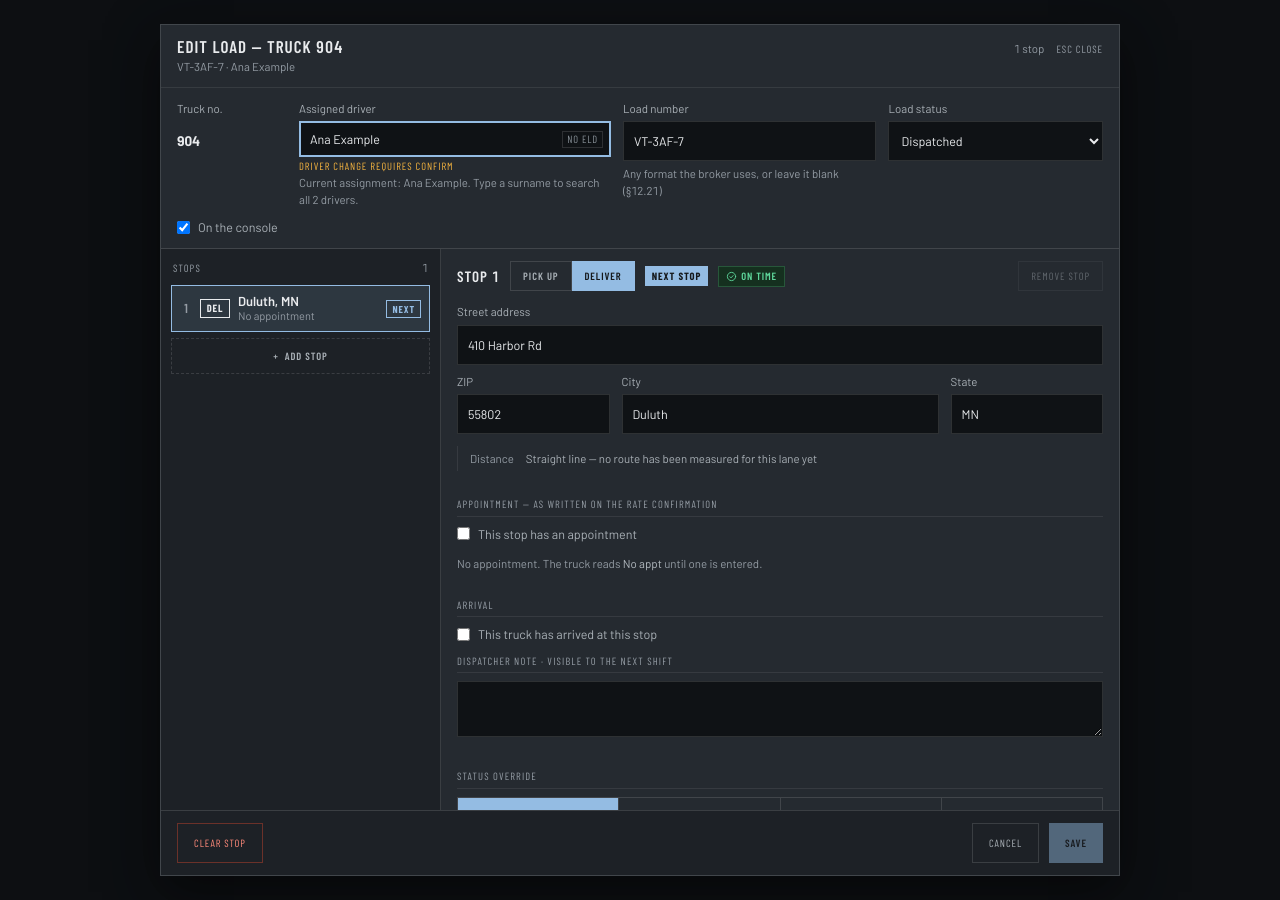
Test: an existing load, saved with a warning (§12.127) › a reassign confirmed and warned: the confirm closes with its save, and nothing is sent again
Replace the text in the dropdown named "Driver for truck 904" with "Bo": (455, 139) [299, 121, 611, 157]
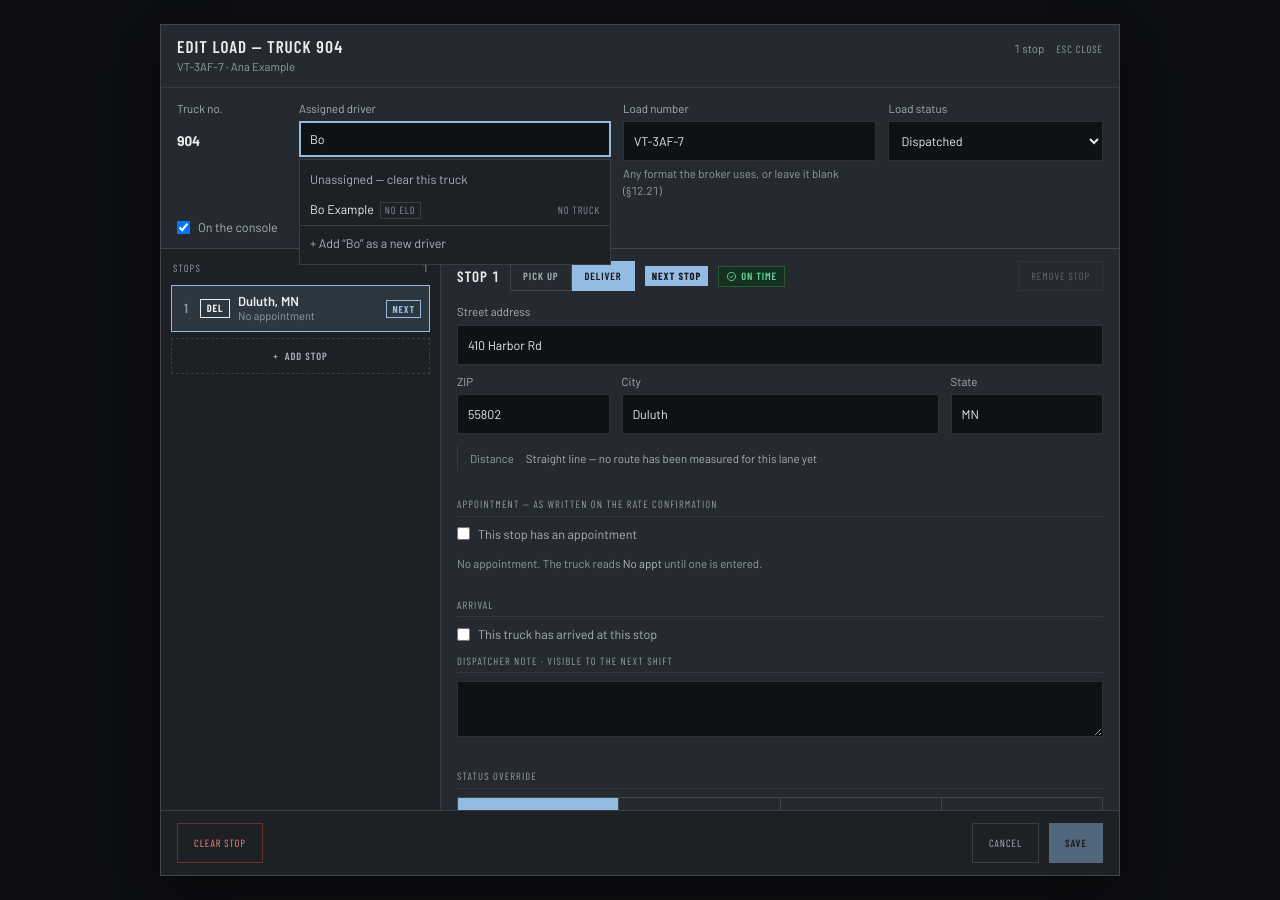
Click the option "Bo Example No ELD no truck": (342, 209) [300, 194, 610, 225]
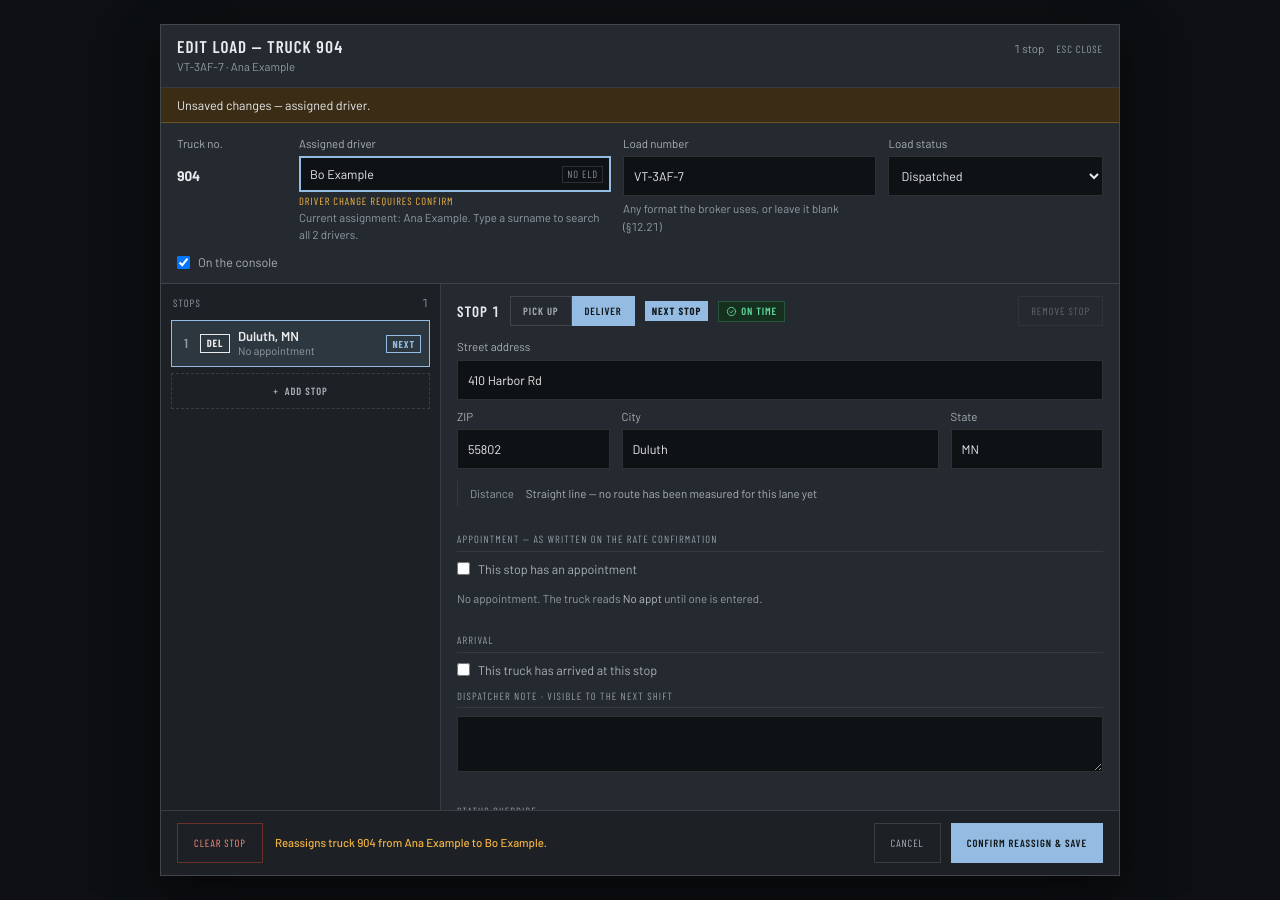
Click the button "Confirm reassign & save": (1027, 843) [951, 823, 1103, 863]
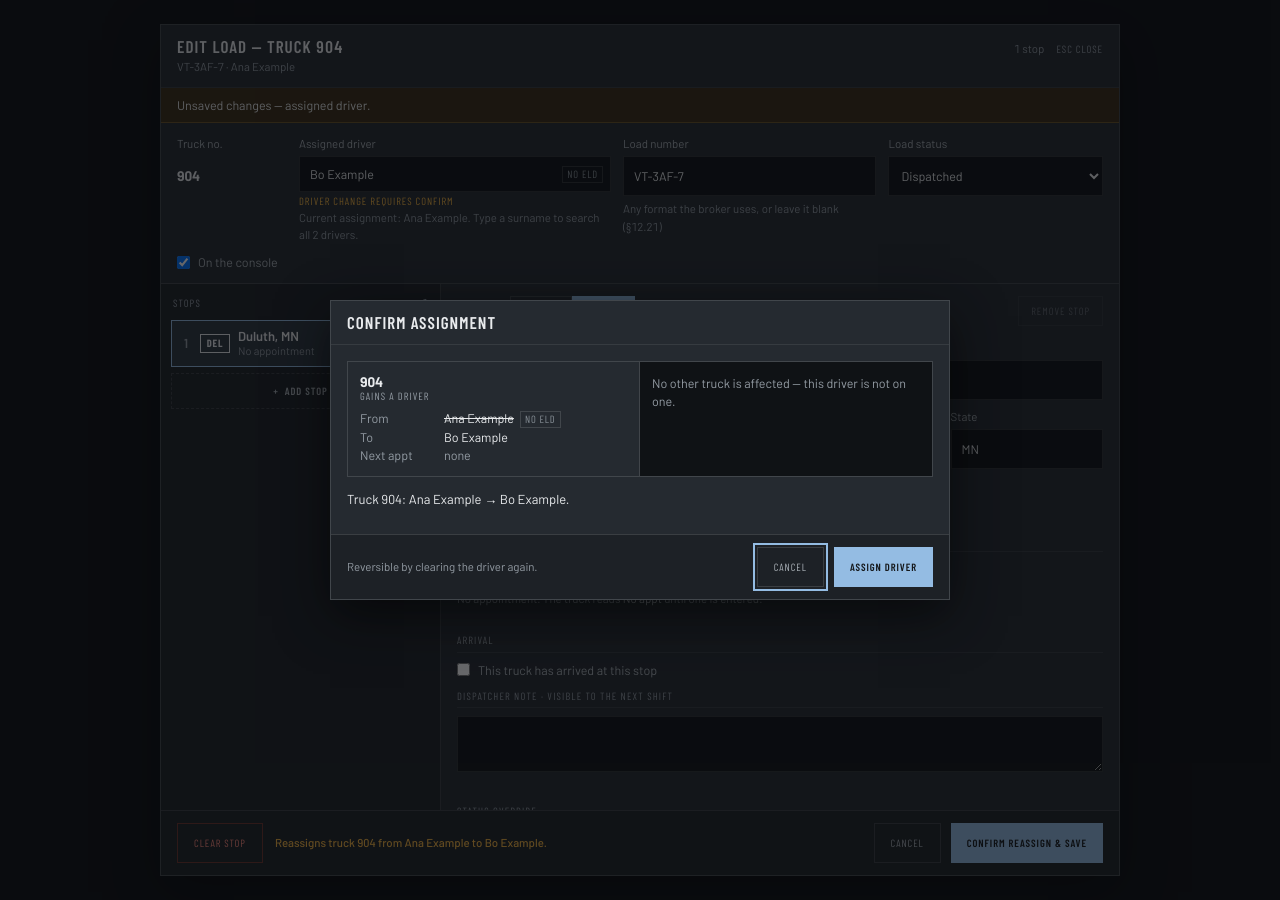
Click the button "Assign driver": (883, 567) [834, 547, 933, 587]
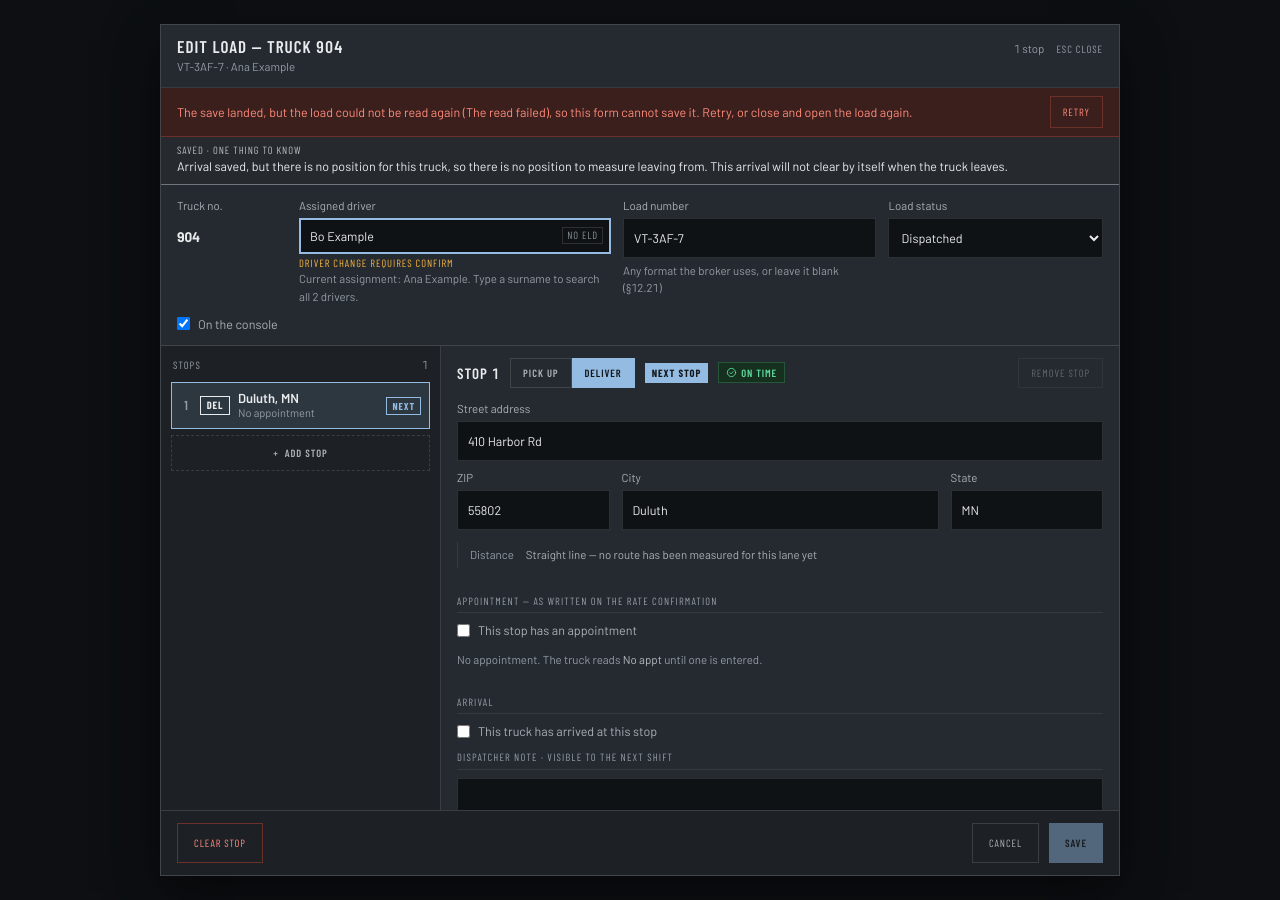
Expected: the button "Save" is disabled, [1049, 823, 1103, 863]
